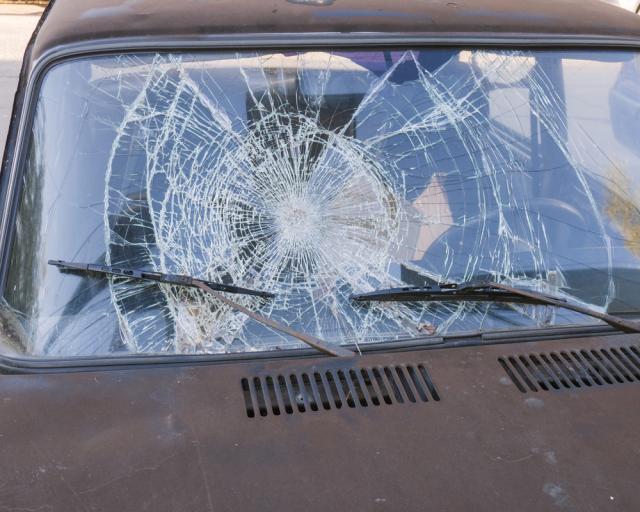glass shatter: (0, 44, 640, 359)
